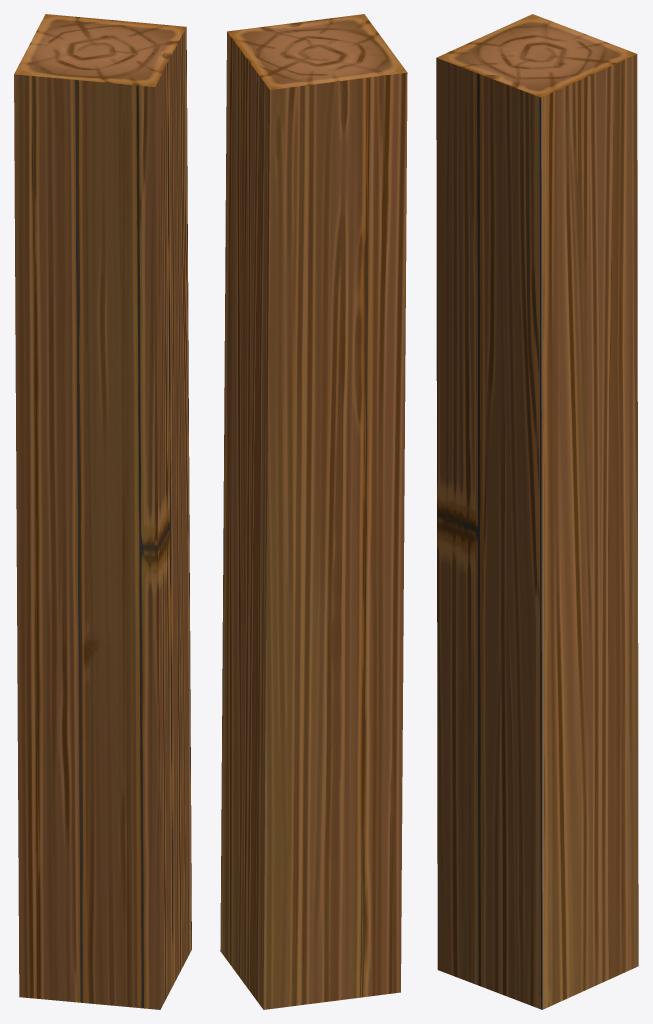
3 renders of one model, left to right at view 1: azimuth 30°, elevation 25°; view 2: azimuth 150°, elevation 25°; view 3: azimuth 270°, elevation 25°, orthographic.
Visible parts, largest first — view 1: Cube.1896; view 2: Cube.1896; view 3: Cube.1896.
Part boxes in pixels (bbox=[...]): Cube.1896: bbox=[14, 14, 191, 1009]; Cube.1896: bbox=[220, 14, 407, 1009]; Cube.1896: bbox=[436, 14, 638, 1009].
Size of the model in its own units: 34.37 by 166 by 33.46.
Materials: 1 (1 with a texture image).
